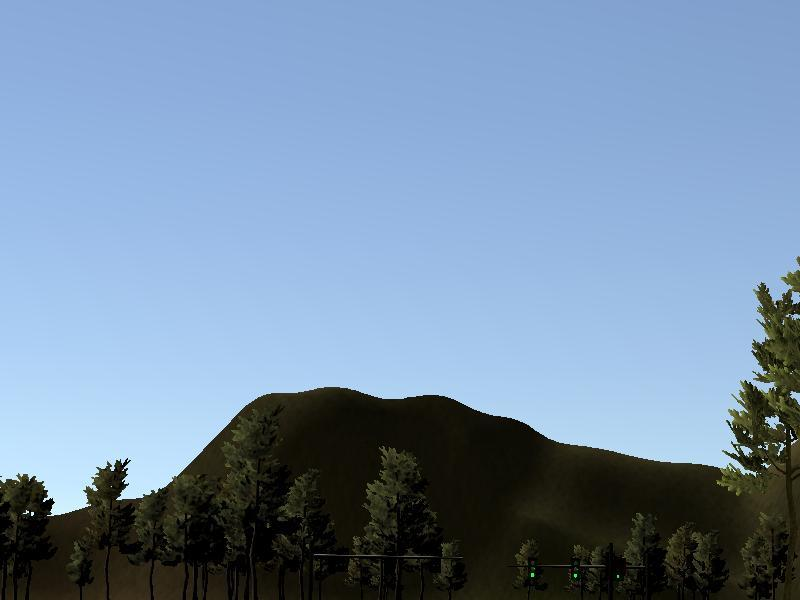Green: (527, 555, 538, 582), (571, 555, 580, 585)
